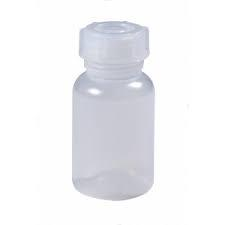Container for household chemicals: (62, 12, 161, 211)
